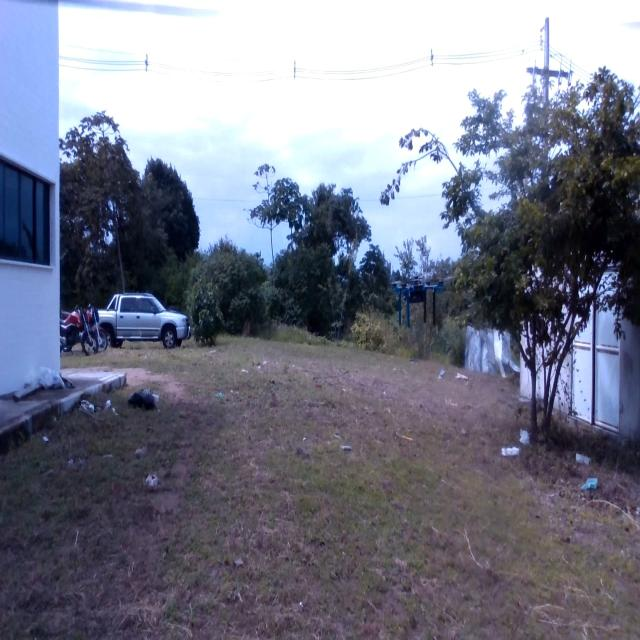-uav-: (391, 264, 445, 335)
